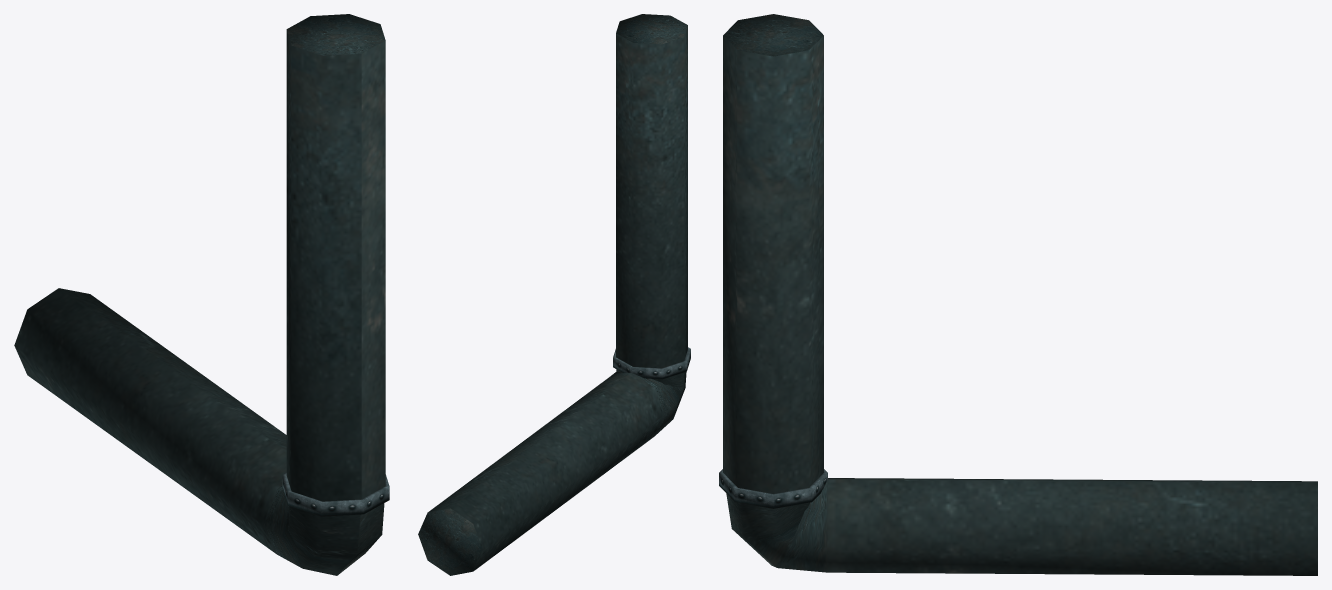
The model's file is pipe medium L.glb.
The picture shows the model from 3 angles, left to right: view 1: azimuth 30°, elevation 25°; view 2: azimuth 150°, elevation 25°; view 3: azimuth 270°, elevation 25°; orthographic projection. The views are drawn at different scales.
Visible parts, largest first — view 1: pipeDob.007; view 2: pipeDob.007; view 3: pipeDob.007.
Boxes of the visible parts, <box> form: pipeDob.007: <box>14,14,389,575</box>; pipeDob.007: <box>418,14,690,575</box>; pipeDob.007: <box>719,14,1317,575</box>.
Bounding box in the file's own units: 0.4 × 2.19 × 2.2.
1 material, 1 textured.
